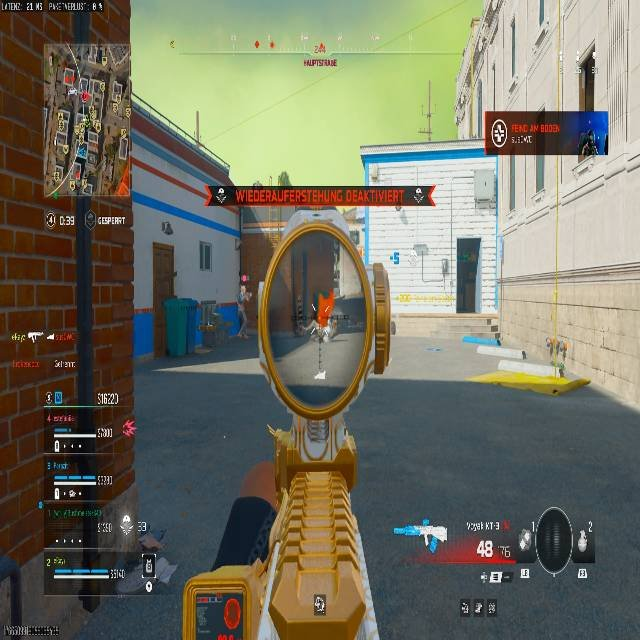player: (234, 283, 252, 338)
